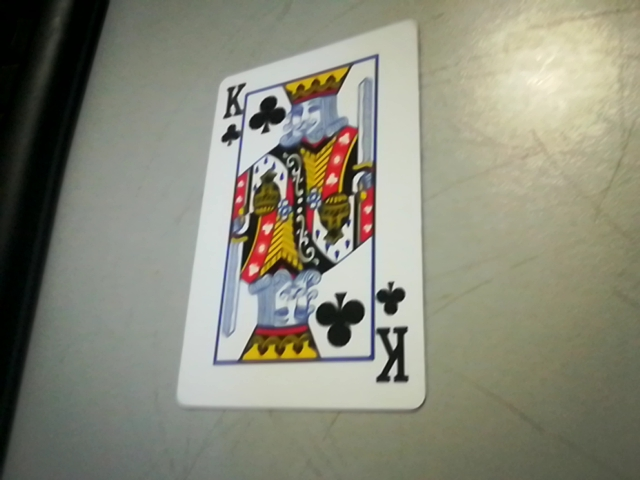mh k: (368, 273, 423, 397)
